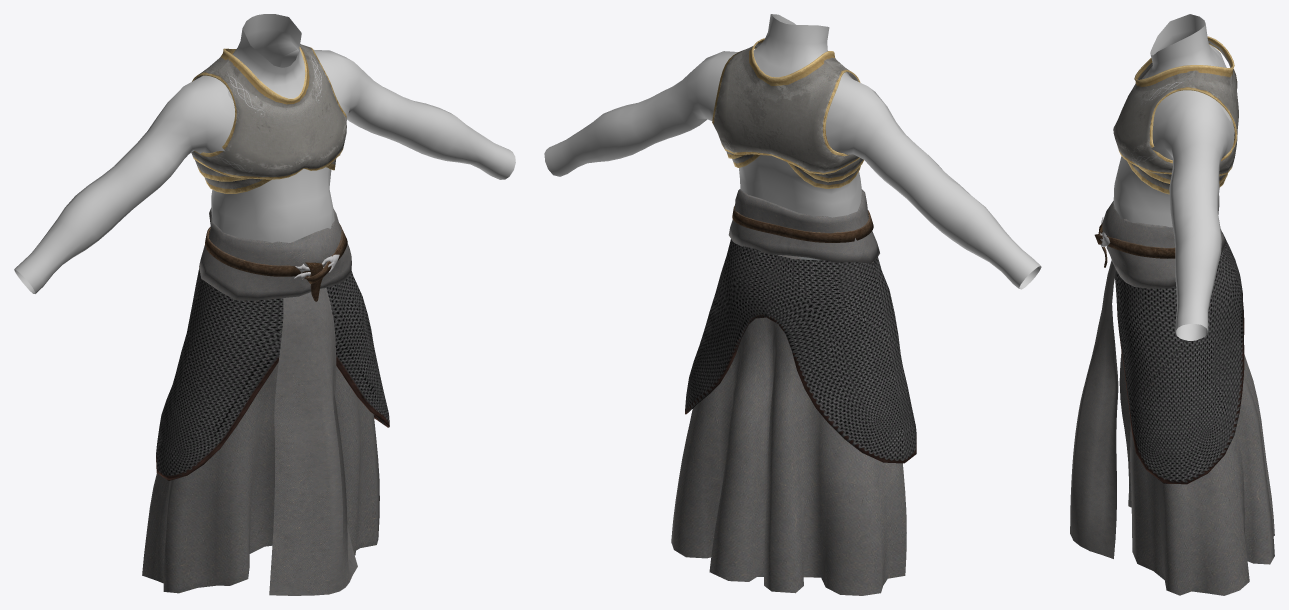
File: rivendell_torso_light_armored_tier1_silvergold.fbx
3 renders of one model, left to right at view 1: azimuth 30°, elevation 25°; view 2: azimuth 150°, elevation 25°; view 3: azimuth 270°, elevation 25°, orthographic. The views are drawn at different scales.
Visible parts, largest first — view 1: rivendell_torso_light_armored_tier1_silvergold.2, rivendell_torso_light_armored_tier1_silvergold.1, rivendell_torso_light_armored_tier1_silvergold.0, rivendell_torso_light_armored_tier1_silvergold.4, rivendell_torso_light_armored_tier1_silvergold.3; view 2: rivendell_torso_light_armored_tier1_silvergold.0, rivendell_torso_light_armored_tier1_silvergold.2, rivendell_torso_light_armored_tier1_silvergold.4, rivendell_torso_light_armored_tier1_silvergold.3, rivendell_torso_light_armored_tier1_silvergold.1; view 3: rivendell_torso_light_armored_tier1_silvergold.4, rivendell_torso_light_armored_tier1_silvergold.0, rivendell_torso_light_armored_tier1_silvergold.2, rivendell_torso_light_armored_tier1_silvergold.1, rivendell_torso_light_armored_tier1_silvergold.3.
Part boxes in pixels (x1,y1,x2,y2): rivendell_torso_light_armored_tier1_silvergold.2: [14, 14, 515, 293]; rivendell_torso_light_armored_tier1_silvergold.1: [199, 208, 357, 595]; rivendell_torso_light_armored_tier1_silvergold.0: [142, 362, 379, 593]; rivendell_torso_light_armored_tier1_silvergold.4: [156, 268, 389, 480]; rivendell_torso_light_armored_tier1_silvergold.3: [191, 44, 346, 193]; rivendell_torso_light_armored_tier1_silvergold.0: [671, 254, 906, 595]; rivendell_torso_light_armored_tier1_silvergold.2: [544, 14, 1041, 289]; rivendell_torso_light_armored_tier1_silvergold.4: [685, 239, 916, 463]; rivendell_torso_light_armored_tier1_silvergold.3: [712, 38, 863, 188]; rivendell_torso_light_armored_tier1_silvergold.1: [728, 189, 879, 263]; rivendell_torso_light_armored_tier1_silvergold.4: [1115, 232, 1244, 484]; rivendell_torso_light_armored_tier1_silvergold.0: [1119, 351, 1274, 595]; rivendell_torso_light_armored_tier1_silvergold.2: [1113, 14, 1234, 340]; rivendell_torso_light_armored_tier1_silvergold.1: [1070, 196, 1226, 558]; rivendell_torso_light_armored_tier1_silvergold.3: [1113, 36, 1238, 194].
Bounding box in the file's own units: 1.38 × 0.5129 × 1.46.
